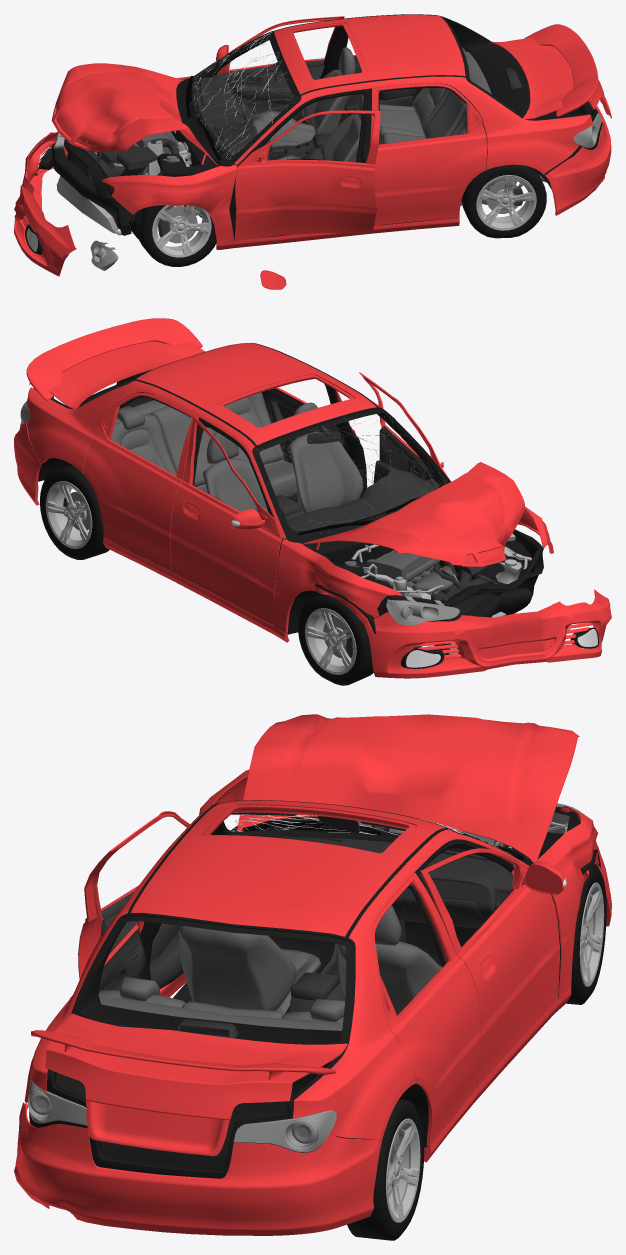
Rendered from carcrashed.fbx.
3 renders of one model, top to bottom at view 1: azimuth 30°, elevation 25°; view 2: azimuth 150°, elevation 25°; view 3: azimuth 270°, elevation 25°, orthographic. The views are drawn at different scales.
Parts seen in each view (by area): view 1: sunburst_spoiler_sport, sunburst_bumperbar_F.001, sunburst_radiator.001, sunburst_engine.001, sunburst_tierod_F, tire_01a_17x8_25DD, sunburst_taillightframe_R, sunburst_windshield_dmg, brake_disc_solid; view 2: sunburst_spoiler_sport, sunburst_engine.001, sunburst_bumperbar_F.001, sunburst_radiator.001, sunburst_tierod_F, tire_01a_17x8_25DD, sunburst_taillightframe_R, sunburst_windshield_dmg, sunburst_foglightgl_L, brake_disc_solid; view 3: sunburst_spoiler_sport, sunburst_bumperbar_F.001, sunburst_engine.001, sunburst_radiator.001, tire_01a_17x8_25DD, sunburst_tierod_F, sunburst_taillightframe_R, sunburst_wipers, sunburst_windshield_dmg.
Boxes of the visible parts, x1,y1,x2,y2 form: sunburst_spoiler_sport: (14, 14, 611, 289); sunburst_bumperbar_F.001: (25, 14, 602, 254); sunburst_radiator.001: (73, 56, 521, 217); sunburst_engine.001: (99, 47, 491, 174); sunburst_tierod_F: (56, 131, 546, 257); tire_01a_17x8_25DD: (139, 164, 546, 266); sunburst_taillightframe_R: (53, 113, 601, 270); sunburst_windshield_dmg: (192, 32, 298, 159); brake_disc_solid: (166, 181, 518, 243); sunburst_spoiler_sport: (14, 318, 611, 678); sunburst_engine.001: (111, 392, 455, 594); sunburst_bumperbar_F.001: (27, 343, 598, 668); sunburst_radiator.001: (121, 388, 497, 645); sunburst_tierod_F: (45, 481, 531, 674); tire_01a_17x8_25DD: (40, 464, 534, 685); sunburst_taillightframe_R: (20, 401, 570, 630); sunburst_windshield_dmg: (255, 411, 445, 534); sunburst_foglightgl_L: (406, 629, 597, 667); brake_disc_solid: (70, 491, 348, 658); sunburst_spoiler_sport: (14, 714, 611, 1235); sunburst_bumperbar_F.001: (29, 800, 600, 1178); sunburst_engine.001: (98, 828, 504, 1036); sunburst_radiator.001: (99, 812, 513, 1038); tire_01a_17x8_25DD: (347, 864, 606, 1240); sunburst_tierod_F: (358, 821, 604, 1222); sunburst_taillightframe_R: (27, 803, 581, 1152); sunburst_wipers: (242, 821, 524, 860); sunburst_windshield_dmg: (226, 814, 510, 854).
Bounding box in the file's own units: 1615 × 484 × 921.
